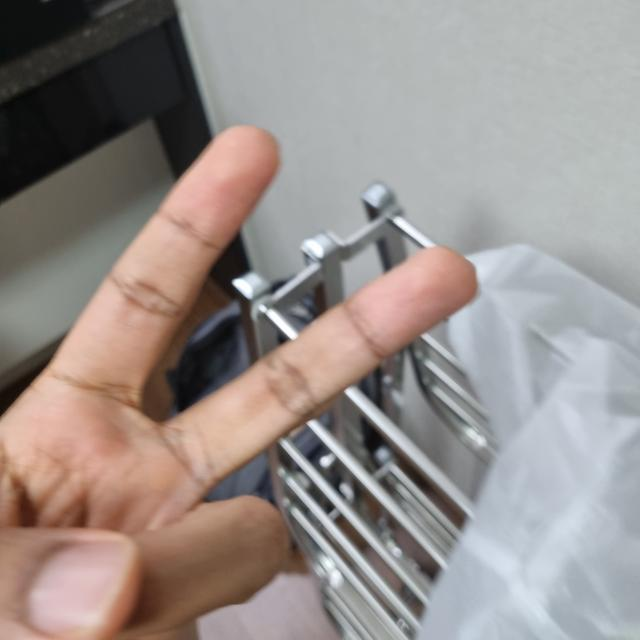Scissors: (0, 117, 470, 639)
